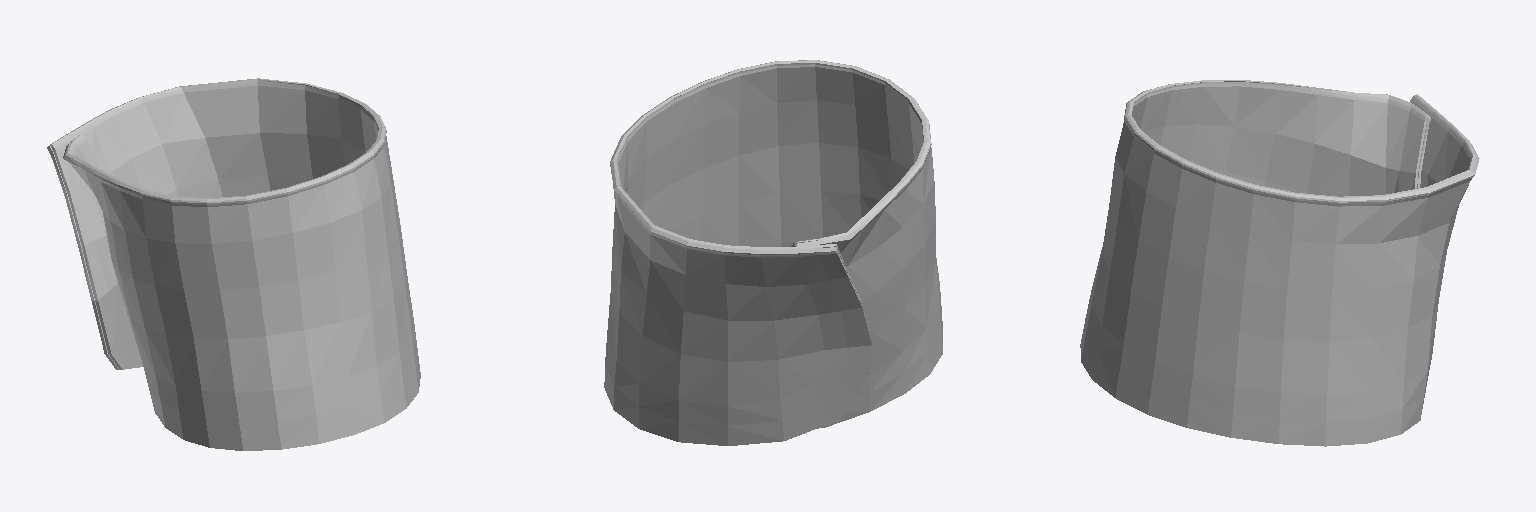
3 renders of one model, left to right at view 1: azimuth 30°, elevation 25°; view 2: azimuth 150°, elevation 25°; view 3: azimuth 270°, elevation 25°, orthographic.
Parts seen in each view (by area): view 1: cropped:ZBrushPolyMesh3D1 cropped:polySurface529 polySurface654 ; view 2: cropped:ZBrushPolyMesh3D1 cropped:polySurface529 polySurface654 ; view 3: cropped:ZBrushPolyMesh3D1 cropped:polySurface529 polySurface654 .
Boxes of the visible parts, box(x1,y1,x2,y2) form: cropped:ZBrushPolyMesh3D1 cropped:polySurface529 polySurface654 : box(47, 78, 420, 450); cropped:ZBrushPolyMesh3D1 cropped:polySurface529 polySurface654 : box(604, 60, 942, 445); cropped:ZBrushPolyMesh3D1 cropped:polySurface529 polySurface654 : box(1080, 80, 1479, 446).
Bounding box in the file's own units: 6.53 × 6.22 × 8.15.